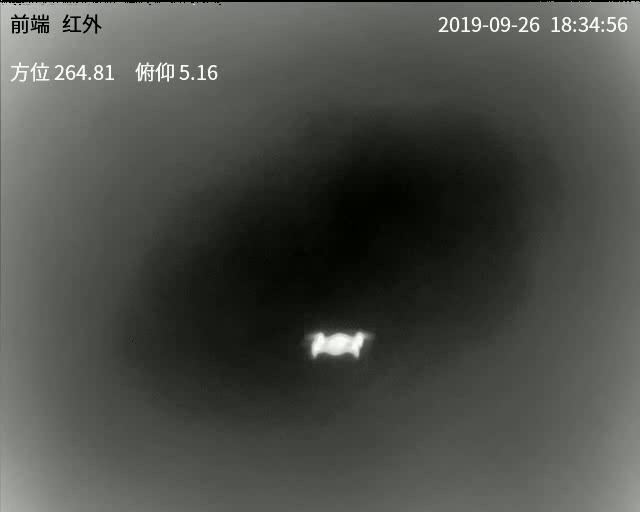DRONE: (308, 328, 370, 360)
